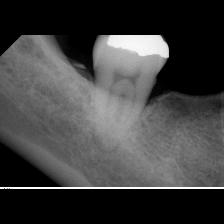apical_lesion: (66, 36, 171, 183)
